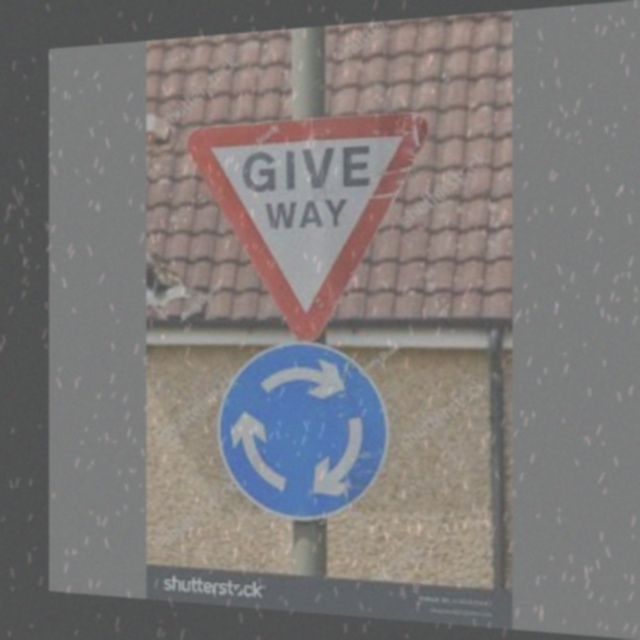Give_Way: (193, 112, 427, 344)
